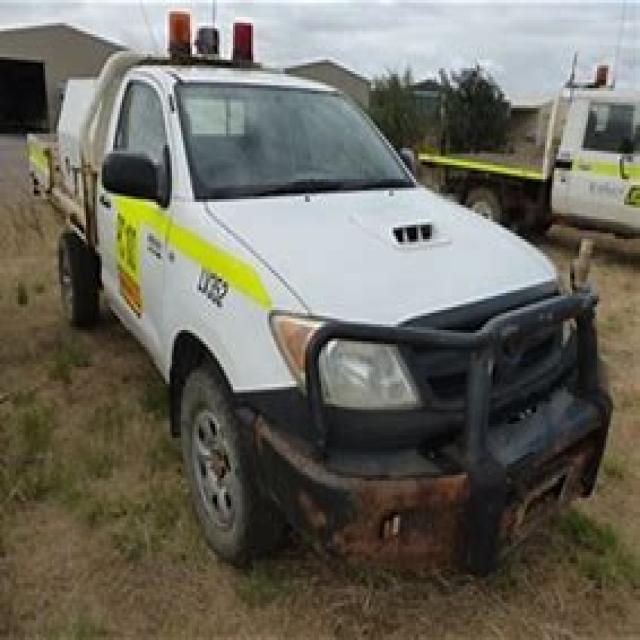light_vehicle: (18, 20, 622, 589)
